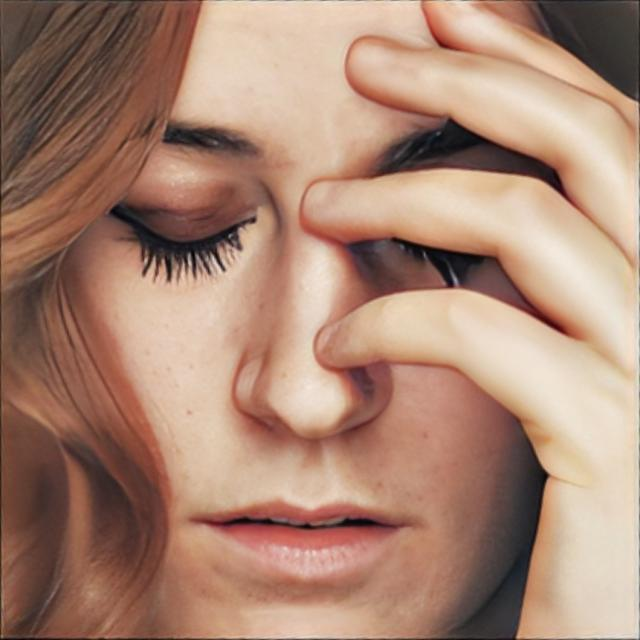neutral: (64, 0, 567, 639)
